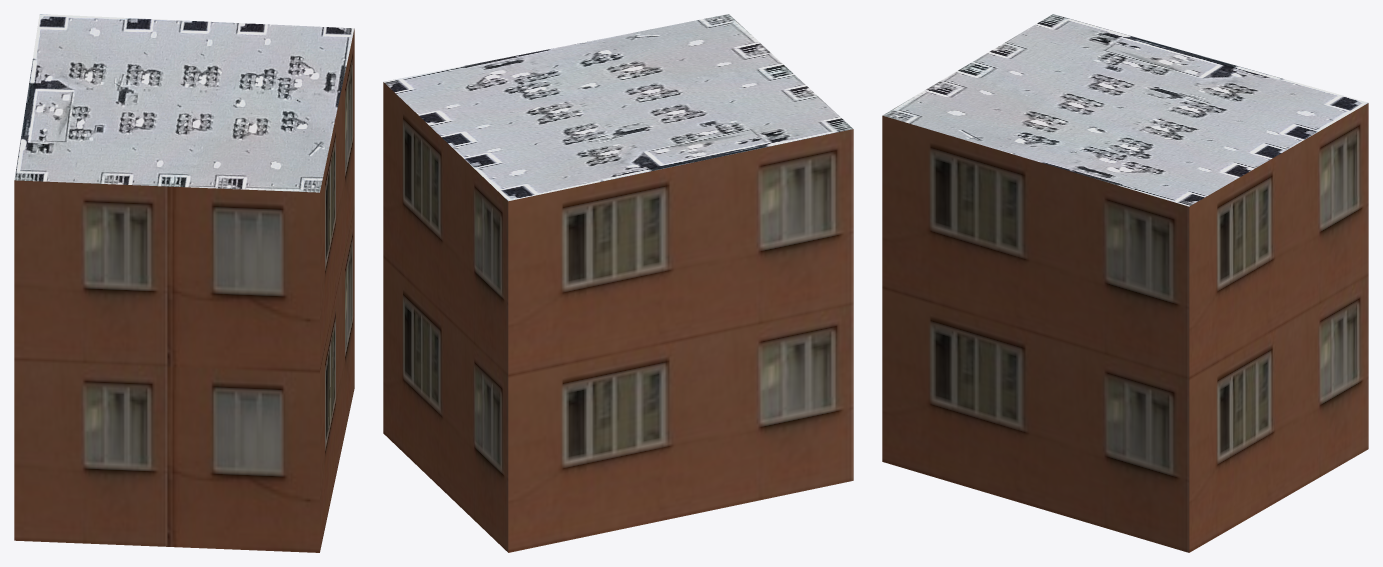
The model's file is ResTex__308.fbx.
The picture shows the model from 3 angles, left to right: view 1: azimuth 30°, elevation 25°; view 2: azimuth 150°, elevation 25°; view 3: azimuth 270°, elevation 25°; orthographic projection. The views are drawn at different scales.
Visible parts, largest first — view 1: CityEngineMaterial_20_m, CityEngineMaterial_2_m; view 2: CityEngineMaterial_20_m, CityEngineMaterial_2_m; view 3: CityEngineMaterial_20_m, CityEngineMaterial_2_m.
Boxes of the visible parts, left/top/right/bottom form: CityEngineMaterial_20_m: left=14, top=29, right=354, bottom=552; CityEngineMaterial_2_m: left=14, top=14, right=354, bottom=192; CityEngineMaterial_20_m: left=383, top=82, right=853, bottom=552; CityEngineMaterial_2_m: left=383, top=14, right=852, bottom=201; CityEngineMaterial_20_m: left=882, top=103, right=1368, bottom=552; CityEngineMaterial_2_m: left=882, top=14, right=1368, bottom=206.
Bounding box in the file's own units: 7.16 × 6 × 7.64.
2 materials, 2 textured.
